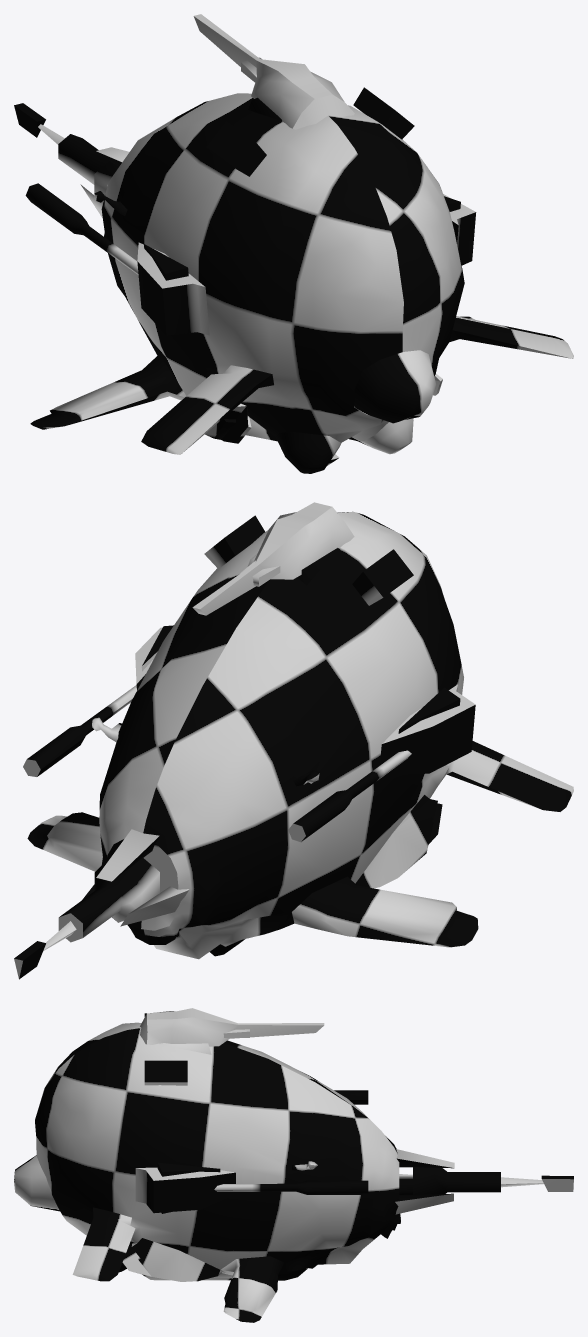
File: phoenix.obj
3 renders of one model, top to bottom at view 1: azimuth 30°, elevation 25°; view 2: azimuth 150°, elevation 25°; view 3: azimuth 270°, elevation 25°, orthographic. The views are drawn at different scales.
Parts seen in each view (by area): view 1: main; view 2: main; view 3: main.
Part boxes in pixels (x1,y1,x2,y2): main: (14, 14, 573, 473); main: (14, 502, 573, 979); main: (14, 1008, 573, 1322).
Size of the model in its own units: 52.73 by 43.7 by 82.88.
1 material, 1 textured.
